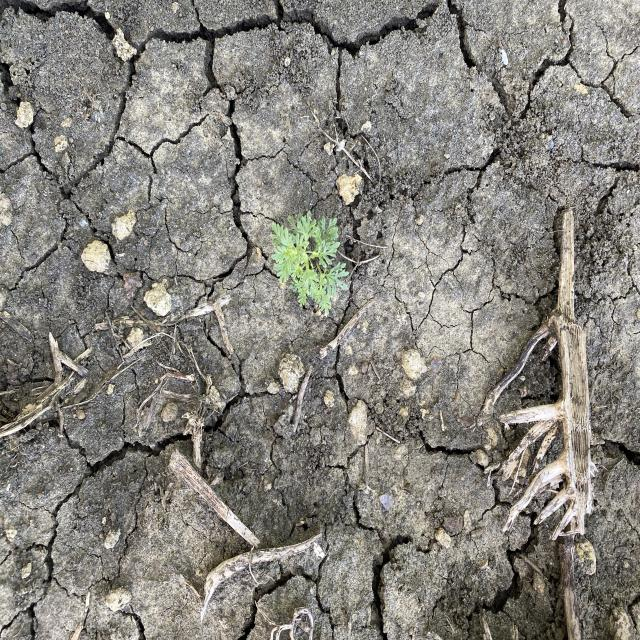Ragweed: (269, 210, 352, 318)
